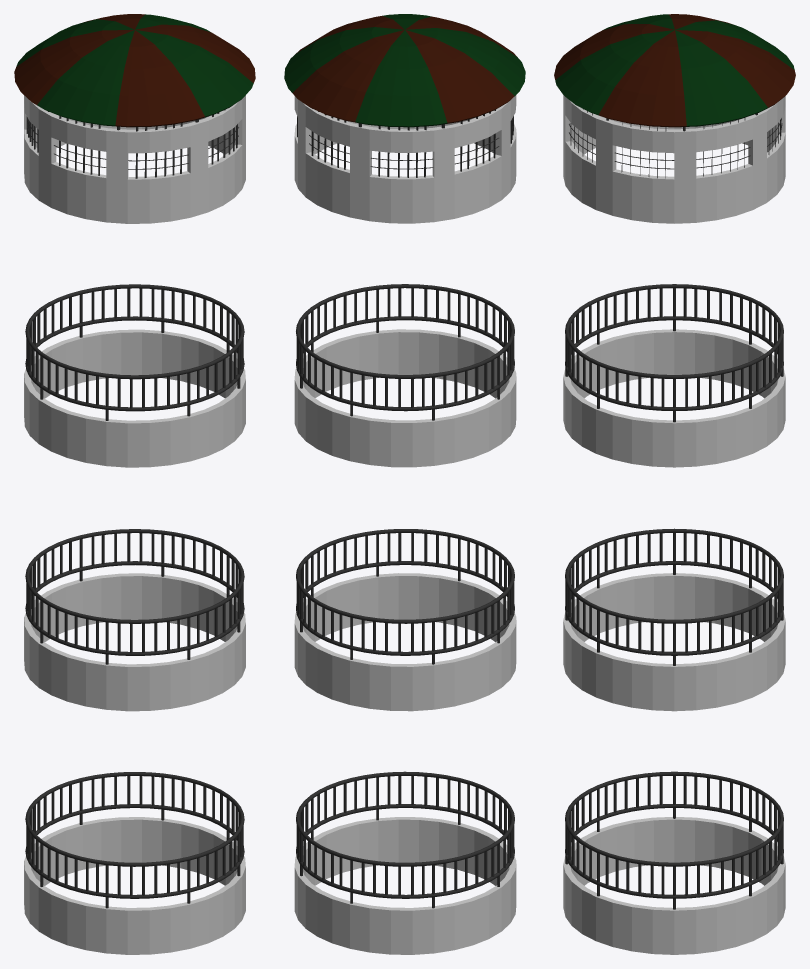
Rendered from balcon_4.obj.
The picture shows the model from 3 angles, left to right: view 1: azimuth 30°, elevation 25°; view 2: azimuth 150°, elevation 25°; view 3: azimuth 270°, elevation 25°; orthographic projection.
Visible parts, largest first — view 1: BORDE_PISOS_Cube.008, TRAGALUZ_REDONDO_1_Cylinder.100, BARROTES_PISOS_Cylinder, BARROTES_CIRCULAR_PISO3_BezierCircle.002, BARROTES_CIRCULAR_PISO2_BezierCircle.001, BARROTES_CIRCULAR_PISO4_BezierCircle.003; view 2: BORDE_PISOS_Cube.008, TRAGALUZ_REDONDO_1_Cylinder.100, BARROTES_PISOS_Cylinder, BARROTES_CIRCULAR_PISO4_BezierCircle.003, BARROTES_CIRCULAR_PISO2_BezierCircle.001, BARROTES_CIRCULAR_PISO3_BezierCircle.002; view 3: BORDE_PISOS_Cube.008, TRAGALUZ_REDONDO_1_Cylinder.100, BARROTES_PISOS_Cylinder, BARROTES_CIRCULAR_PISO2_BezierCircle.001, BARROTES_CIRCULAR_PISO4_BezierCircle.003, BARROTES_CIRCULAR_PISO3_BezierCircle.002.
Part boxes in pixels (x1,y1,x2,y2): BORDE_PISOS_Cube.008: (24, 329, 245, 954); TRAGALUZ_REDONDO_1_Cylinder.100: (14, 14, 255, 223); BARROTES_PISOS_Cylinder: (26, 288, 243, 908); BARROTES_CIRCULAR_PISO3_BezierCircle.002: (25, 529, 244, 655); BARROTES_CIRCULAR_PISO2_BezierCircle.001: (25, 772, 244, 898); BARROTES_CIRCULAR_PISO4_BezierCircle.003: (25, 284, 244, 411); BORDE_PISOS_Cube.008: (294, 329, 516, 954); TRAGALUZ_REDONDO_1_Cylinder.100: (284, 14, 525, 223); BARROTES_PISOS_Cylinder: (296, 288, 514, 908); BARROTES_CIRCULAR_PISO4_BezierCircle.003: (296, 284, 514, 411); BARROTES_CIRCULAR_PISO2_BezierCircle.001: (296, 771, 514, 898); BARROTES_CIRCULAR_PISO3_BezierCircle.002: (296, 529, 514, 655); BORDE_PISOS_Cube.008: (563, 329, 785, 954); TRAGALUZ_REDONDO_1_Cylinder.100: (554, 14, 795, 223); BARROTES_PISOS_Cylinder: (565, 288, 783, 909); BARROTES_CIRCULAR_PISO2_BezierCircle.001: (565, 771, 783, 898); BARROTES_CIRCULAR_PISO4_BezierCircle.003: (565, 284, 783, 410); BARROTES_CIRCULAR_PISO3_BezierCircle.002: (565, 528, 783, 655).
Size of the model in its own units: 4.95 by 19.82 by 4.95.
